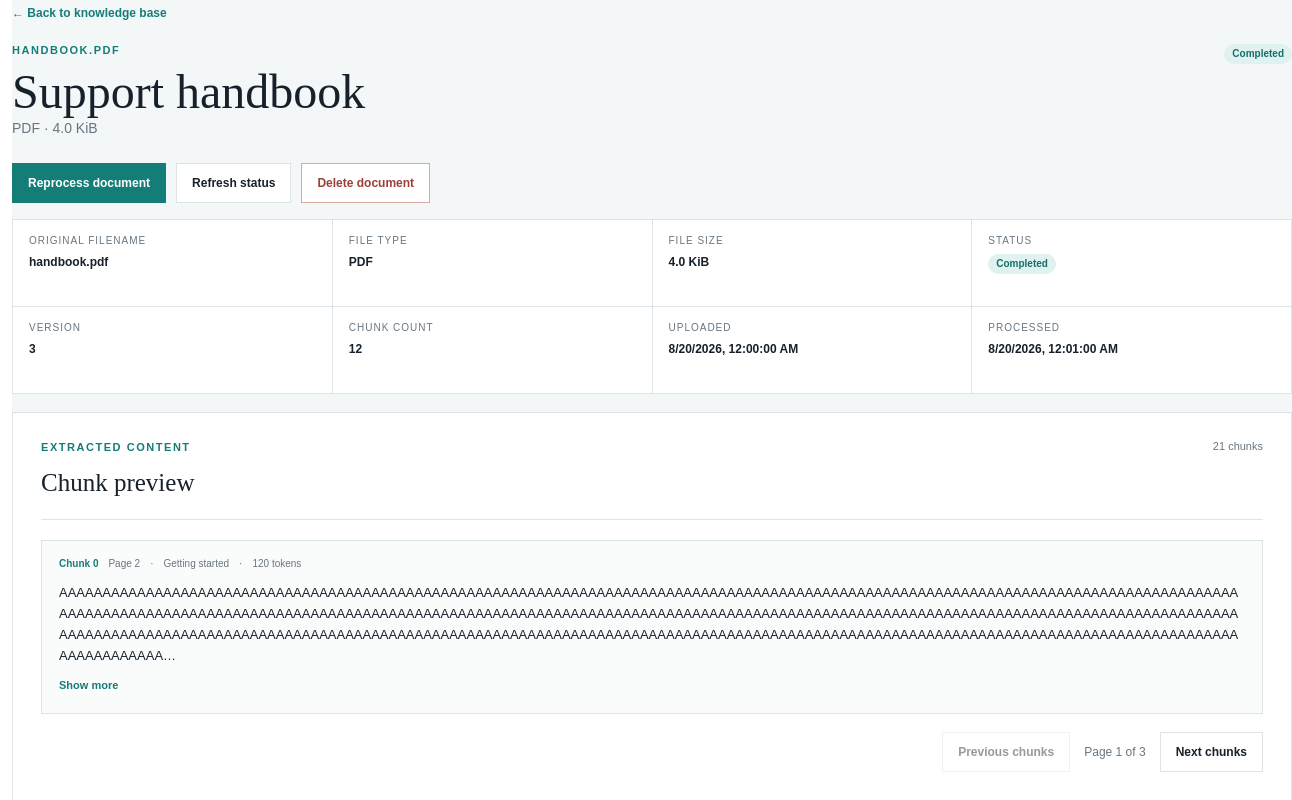
Test: DocumentDetail › paginates chunks
The image size is (1292, 800).
Step 1. Click the button "Next chunks" → (1211, 752), box x1=1160 y1=732 x2=1263 y2=772
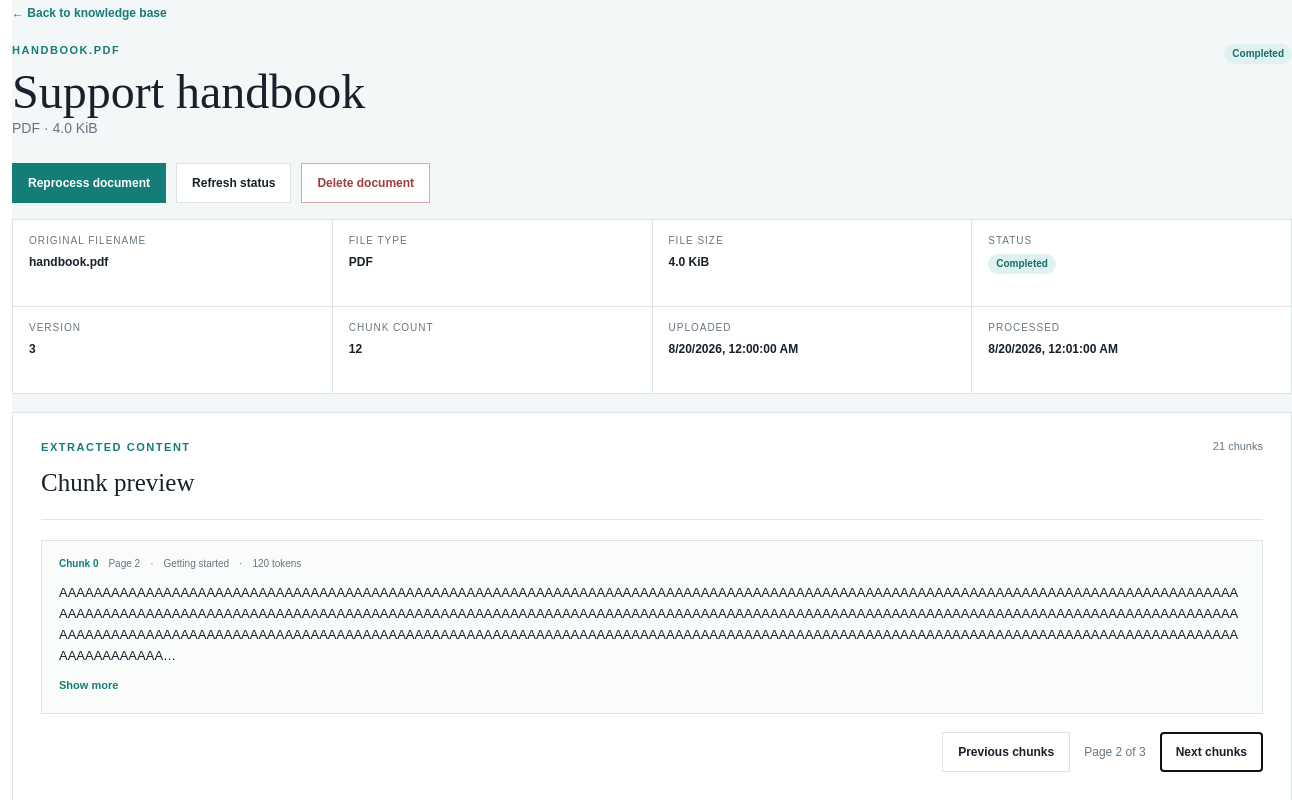
Result: the text "Page 2 of 3" is shown at x1=1084 y1=746 x2=1146 y2=758
